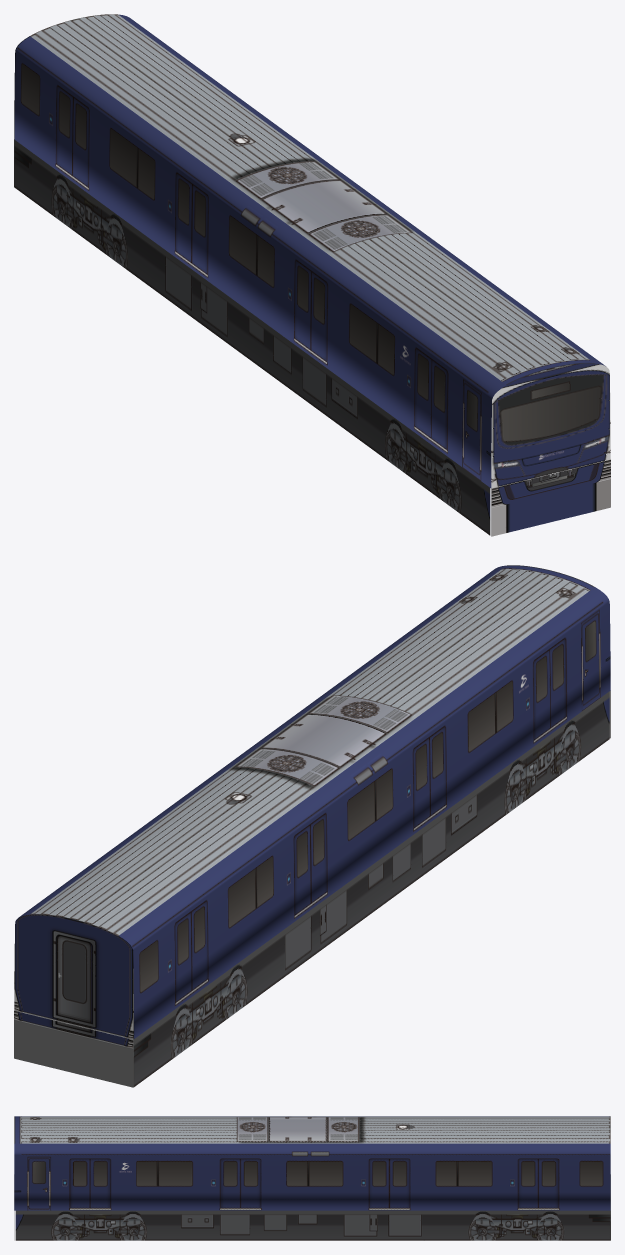
Rendered from car1.glb.
3 views of the same model, one above another, from view 1: azimuth 30°, elevation 25°; view 2: azimuth 150°, elevation 25°; view 3: azimuth 270°, elevation 25° (orthographic). The views are drawn at different scales.
Visible parts, largest first — view 1: sotetsu-13000-car1; view 2: sotetsu-13000-car1; view 3: sotetsu-13000-car1.
Part boxes in pixels (x1=…): sotetsu-13000-car1: x1=14, y1=14, x2=610, y2=536; sotetsu-13000-car1: x1=14, y1=565, x2=610, y2=1087; sotetsu-13000-car1: x1=14, y1=1116, x2=610, y2=1240.
Bounding box in the file's own units: 2.95 × 3.62 × 20.43.
9 materials, 8 textured.
